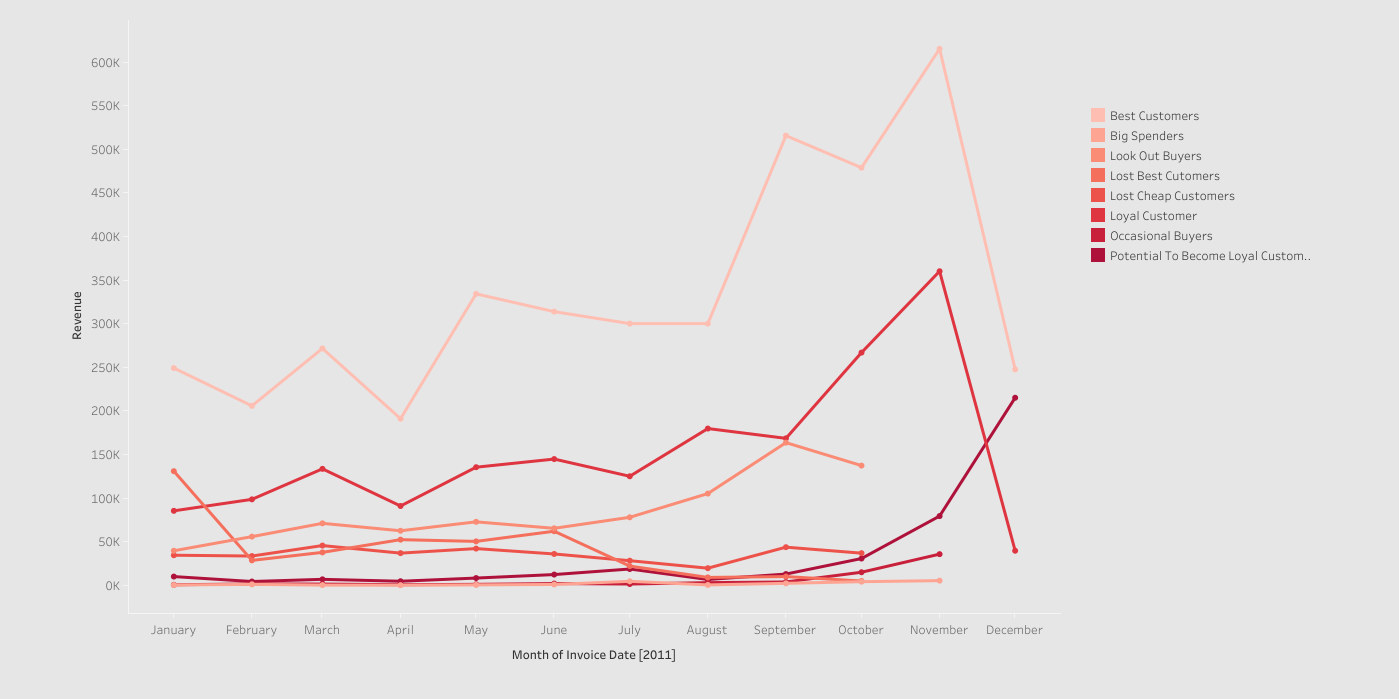

This screenshot's page, from the dashboard's own definition file:
{"tool":"tableau","page":{"name":"Sales_over_Time_for_RFM_Customer_Segments","canvas":[1400,700],"ordinal":9},"visuals":[{"type":"worksheet","title":"RFM Segment-Sales over Time","mark":"Line","rows":["Calculation_1441996330369675264"],"cols":["InvoiceDate"],"box":[60,20,1000,650]},{"type":"legend","title":"RFM Segment-Sales over Time","param":"[federated.120o6hi1b9q1li126ojbf0d454lv].[none:Customer Segment:nk]","box":[1088,105,226,163]}]}

Visuals, with their boxes in screenshot pixels (x1, y1, x2, y2), scaled from the page's 1400x700 canvas onto the 1399x699 screenshot:
"RFM Segment-Sales over Time" worksheet (Line marks): bbox=(60, 20, 1059, 669)
"RFM Segment-Sales over Time" legend: bbox=(1087, 105, 1313, 268)
